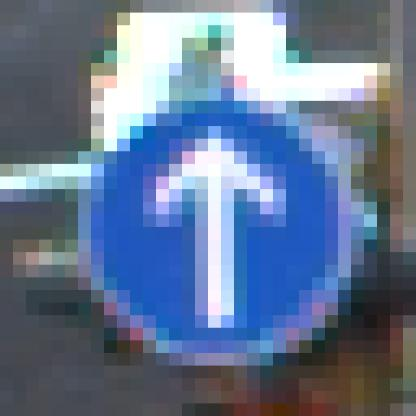AheadOnly: (66, 77, 339, 354)
